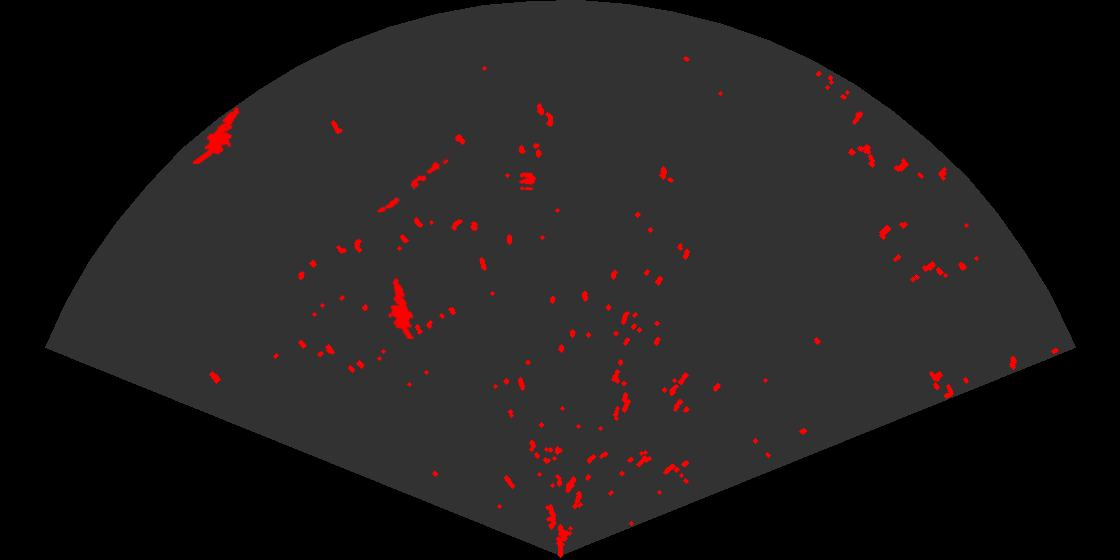ball: (517, 171, 538, 192)
chain: (376, 155, 450, 215)
frogman: (193, 105, 241, 164), (386, 276, 416, 339)
